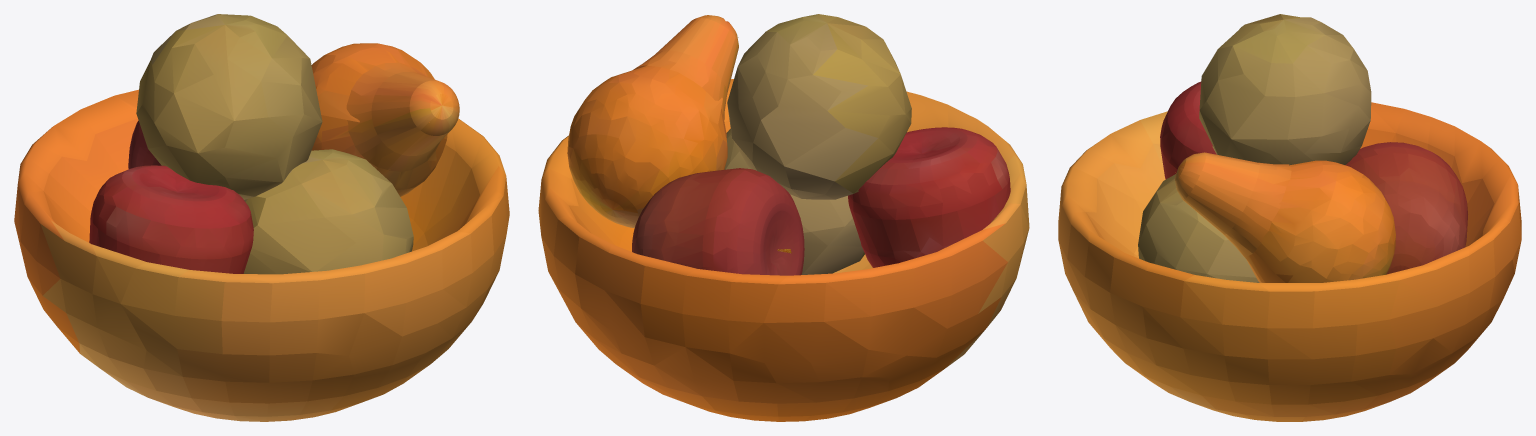
The model's file is fruits_lod_025.obj.
The picture shows the model from 3 angles, left to right: view 1: azimuth 30°, elevation 25°; view 2: azimuth 150°, elevation 25°; view 3: azimuth 270°, elevation 25°; orthographic projection. The views are drawn at different scales.
Size of the model in its own units: 2.08 by 1.78 by 2.08.
1 material, 1 textured.
